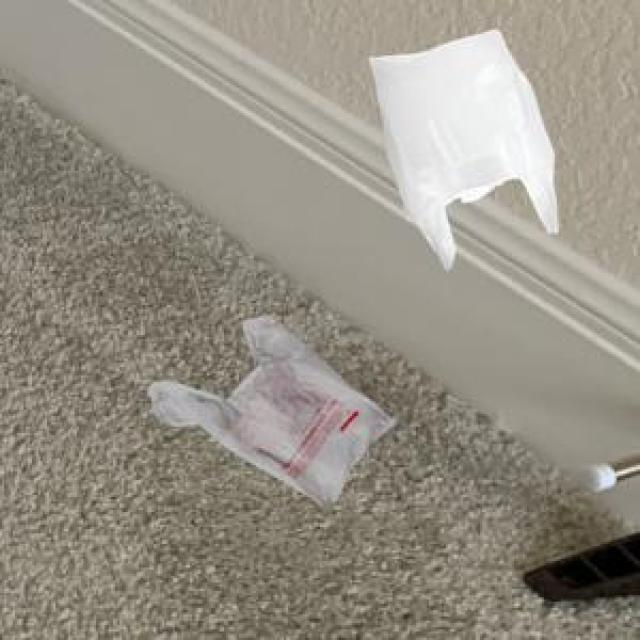waste: (372, 30, 558, 269), (72, 3, 285, 131), (232, 334, 390, 479)
